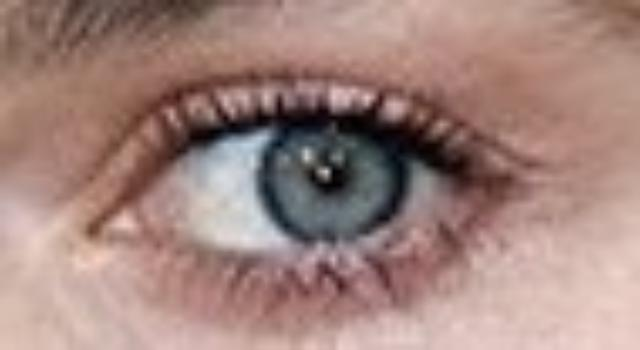eye: (256, 122, 408, 244)
